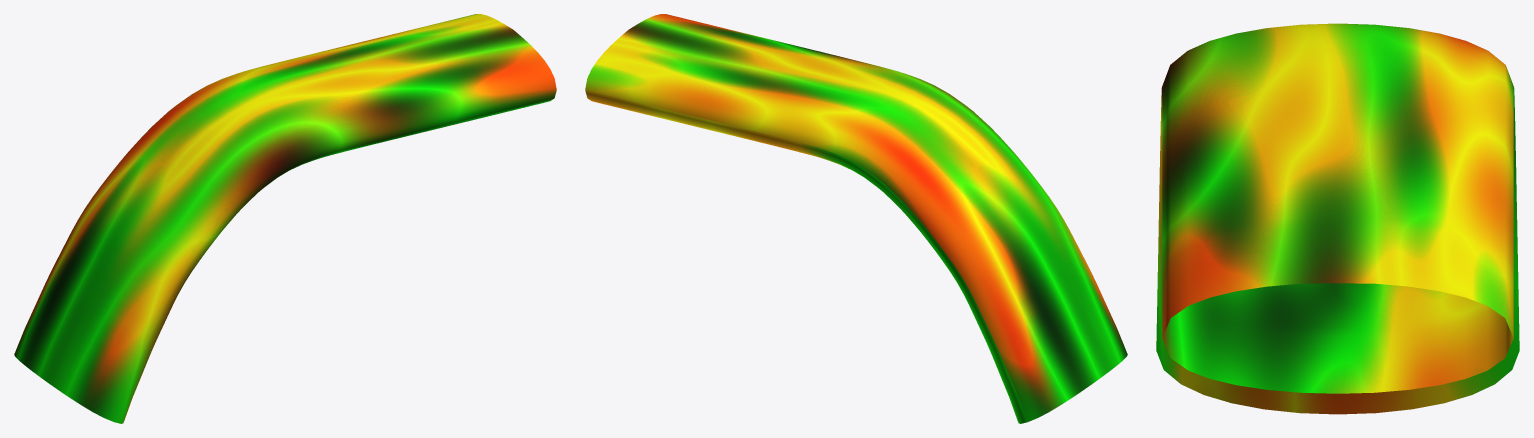
File: SM_SM_Waterfall.fbx
3 views of the same model, side by side, from view 1: azimuth 30°, elevation 25°; view 2: azimuth 150°, elevation 25°; view 3: azimuth 270°, elevation 25° (orthographic). The views are drawn at different scales.
Parts seen in each view (by area): view 1: SM_SM_Waterfall_LOD0; view 2: SM_SM_Waterfall_LOD0; view 3: SM_SM_Waterfall_LOD0.
Part boxes in pixels (x1,y1,x2,y2): SM_SM_Waterfall_LOD0: [14, 14, 556, 423]; SM_SM_Waterfall_LOD0: [585, 14, 1127, 423]; SM_SM_Waterfall_LOD0: [1156, 23, 1519, 414].
Size of the model in its own units: 1069 by 356 by 580.
1 material, 1 textured.
